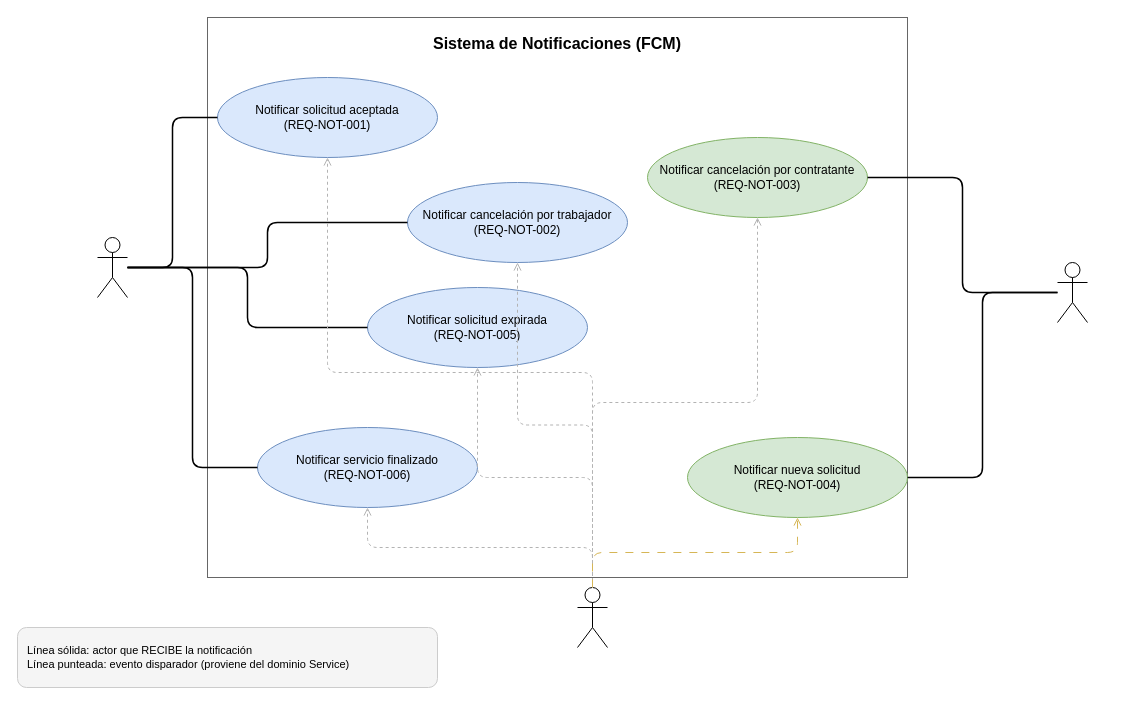
Image size: 1123x705. Some labels were removed from this diagram. The shapes that lost their labels are listed below. From the top down, each one's centre as x and y in pixels, then its label:
At pixel 112 267: "Contratante".
At pixel 1072 292: "Trabajador".
At pixel 592 617: "Servicio (dominio Service)".
